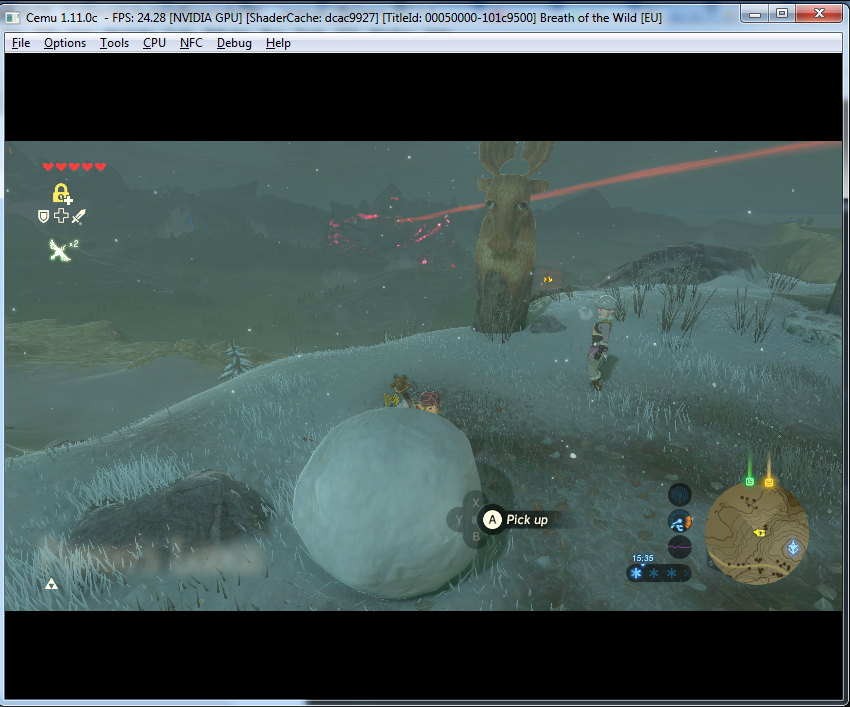dude: (578, 285, 623, 393)
snowball: (290, 395, 485, 601)
totem: (472, 138, 546, 344)
